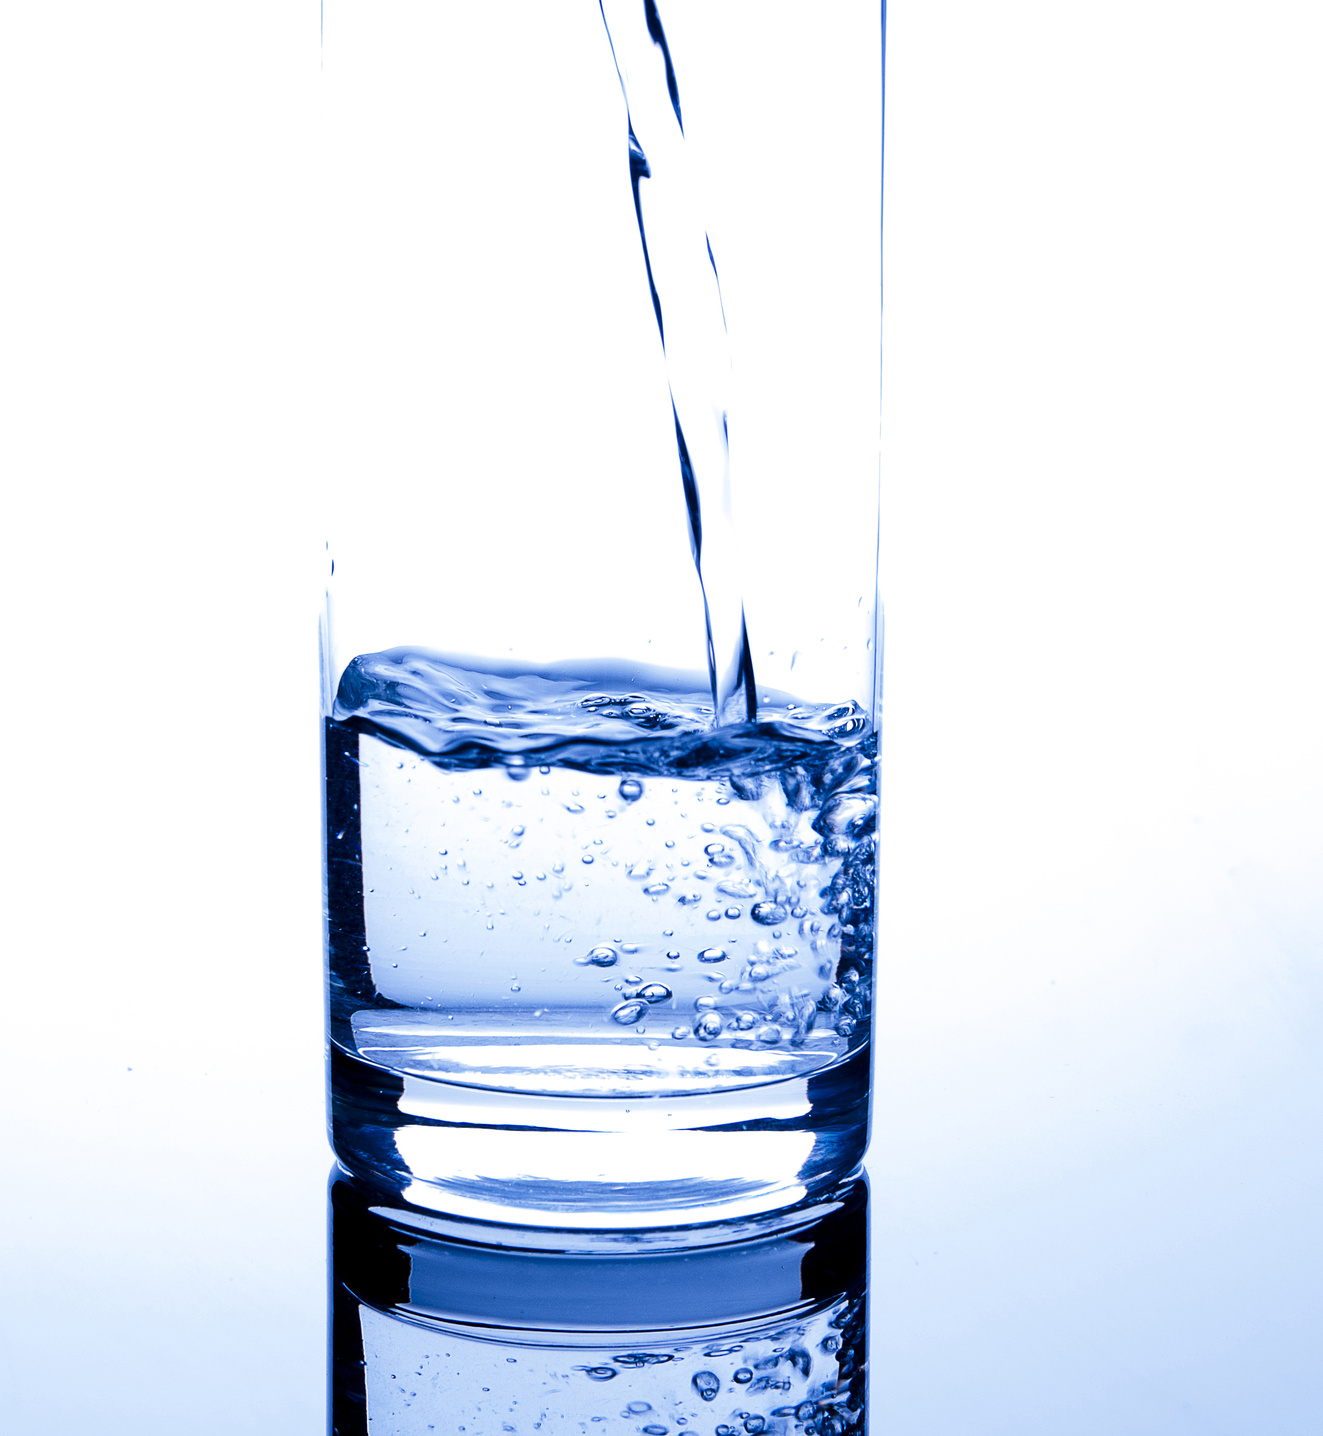glass of water: (351, 392, 872, 1108)
